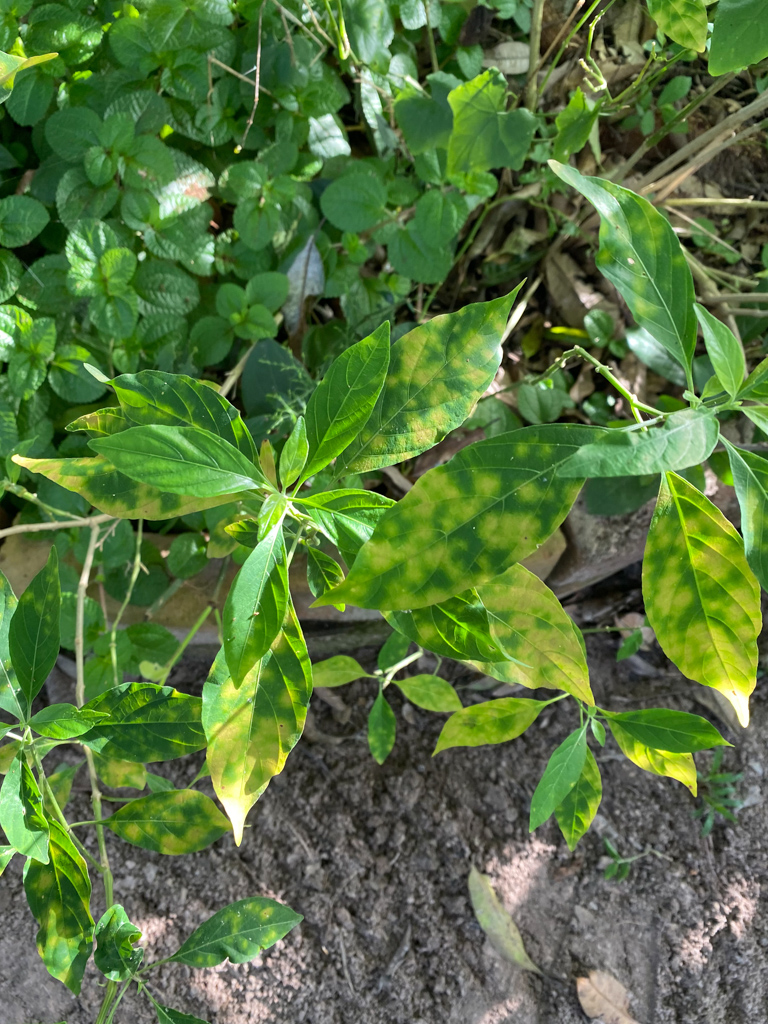Pepper yellow leaf: (305, 418, 561, 630), (325, 280, 533, 473), (639, 474, 768, 728), (197, 591, 312, 854), (3, 442, 261, 536), (487, 551, 606, 711), (24, 811, 98, 992), (108, 787, 239, 862), (182, 895, 304, 972), (423, 691, 558, 758)
